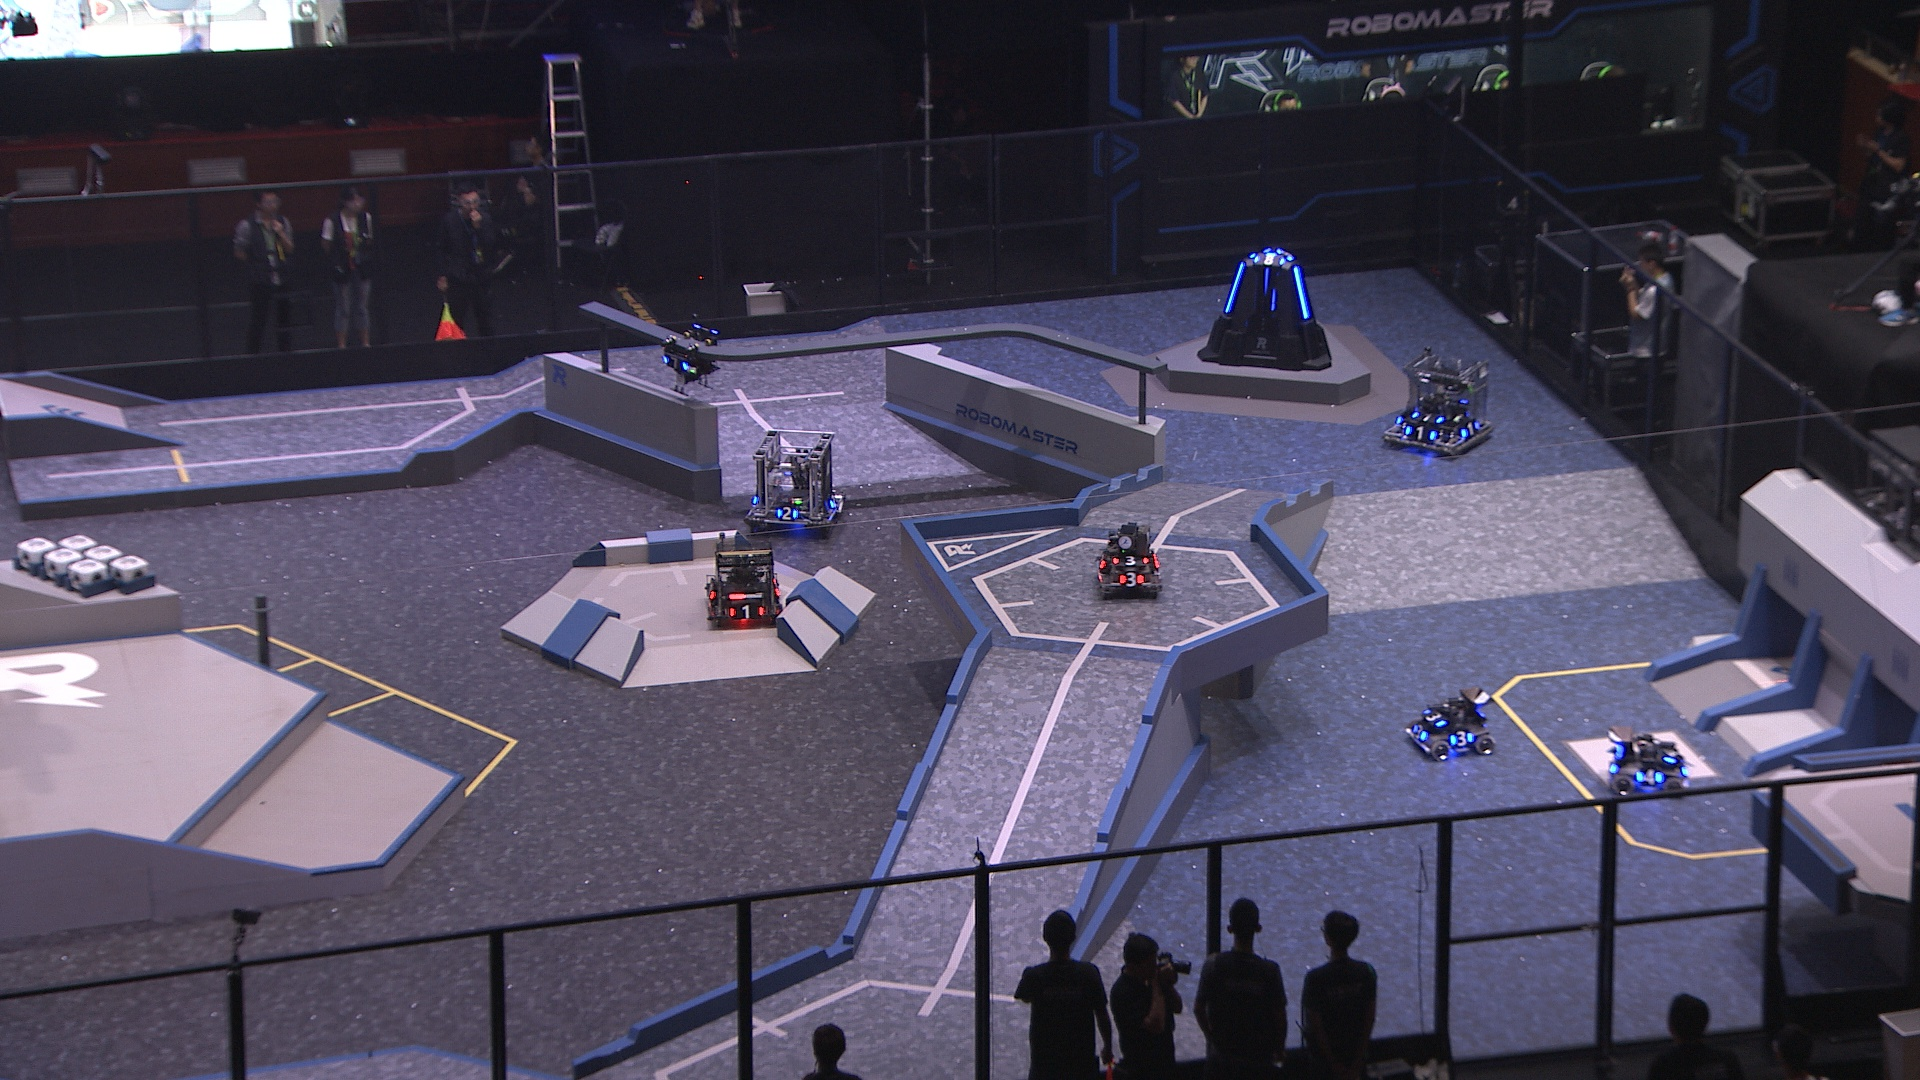armor: (1220, 258, 1250, 316), (1288, 262, 1313, 322), (723, 603, 765, 621), (1634, 765, 1665, 789), (1400, 423, 1439, 442), (1110, 553, 1153, 568), (661, 351, 688, 375), (1116, 568, 1145, 589), (1411, 407, 1447, 425), (1422, 707, 1447, 728), (1253, 251, 1286, 266), (1447, 728, 1474, 746), (1458, 419, 1481, 440), (1662, 742, 1681, 766), (702, 579, 719, 604), (1408, 723, 1429, 742), (774, 505, 800, 520), (1275, 245, 1295, 264), (825, 491, 840, 509), (1098, 551, 1109, 570)
base: (1196, 240, 1335, 376)
car: (1379, 343, 1498, 462), (740, 425, 849, 541), (698, 531, 783, 633), (1400, 683, 1495, 764), (1607, 725, 1691, 798), (1092, 518, 1162, 599)
watcher: (657, 314, 723, 396)
